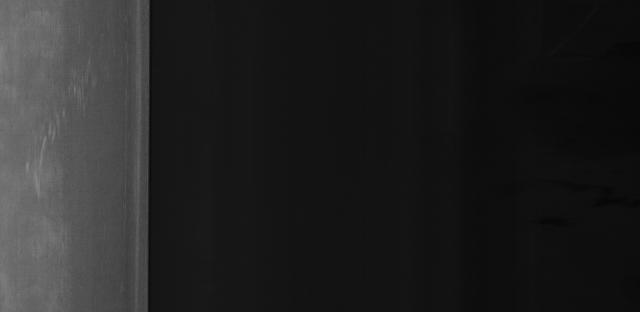silk_spot: (16, 38, 102, 228)
